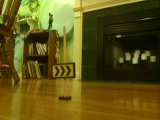right: (51, 63, 76, 77)
